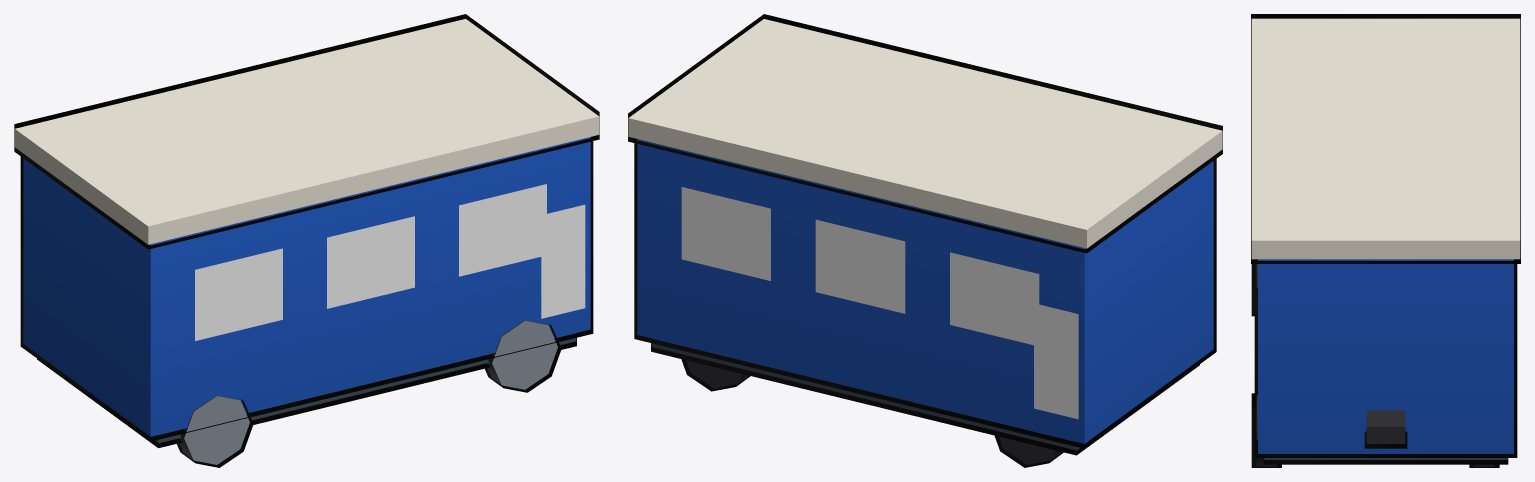
File: BR_Zug_Wagen_A.glb
3 renders of one model, left to right at view 1: azimuth 30°, elevation 25°; view 2: azimuth 150°, elevation 25°; view 3: azimuth 270°, elevation 25°, orthographic.
Parts seen in each view (by area): view 1: BR_Zug_Wagen_A_Mesh, BR_Zug_Wagen_A_Outline; view 2: BR_Zug_Wagen_A_Mesh, BR_Zug_Wagen_A_Outline; view 3: BR_Zug_Wagen_A_Mesh, BR_Zug_Wagen_A_Outline.
Boxes of the visible parts, <box> form: BR_Zug_Wagen_A_Mesh: <box>14,19,599,464</box>; BR_Zug_Wagen_A_Outline: <box>14,14,599,467</box>; BR_Zug_Wagen_A_Mesh: <box>628,19,1222,464</box>; BR_Zug_Wagen_A_Outline: <box>628,14,1222,467</box>; BR_Zug_Wagen_A_Mesh: <box>1251,18,1520,466</box>; BR_Zug_Wagen_A_Outline: <box>1251,14,1520,467</box>.
Size of the model in its own units: 4.37 by 2.29 by 2.11.
